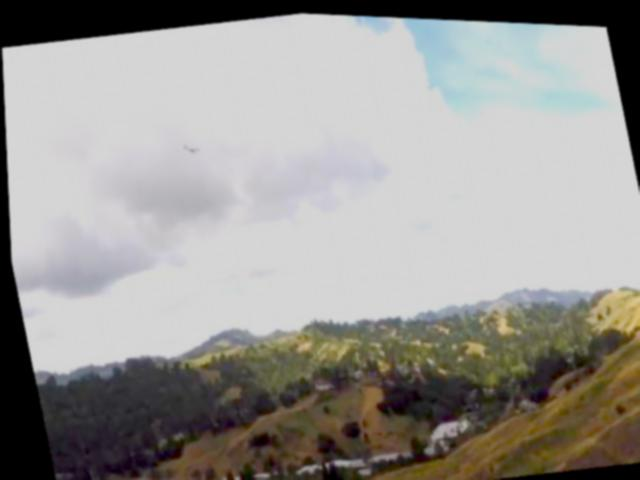iha: (181, 140, 198, 155)
